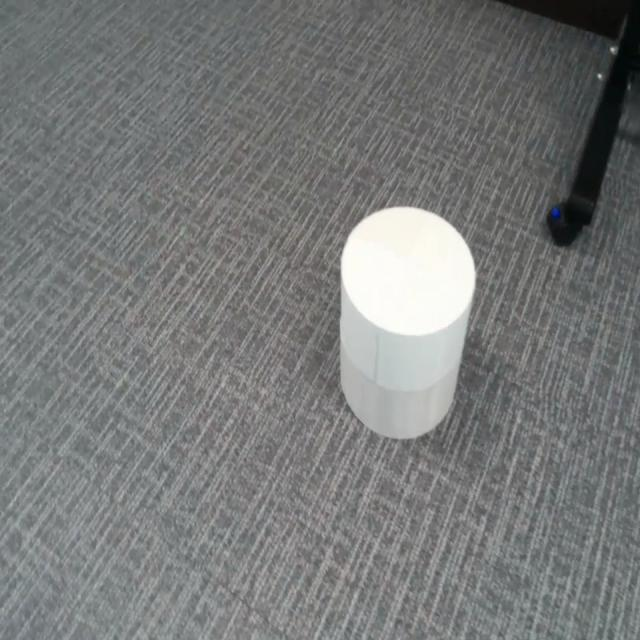cylinder: (339, 205, 477, 440)
